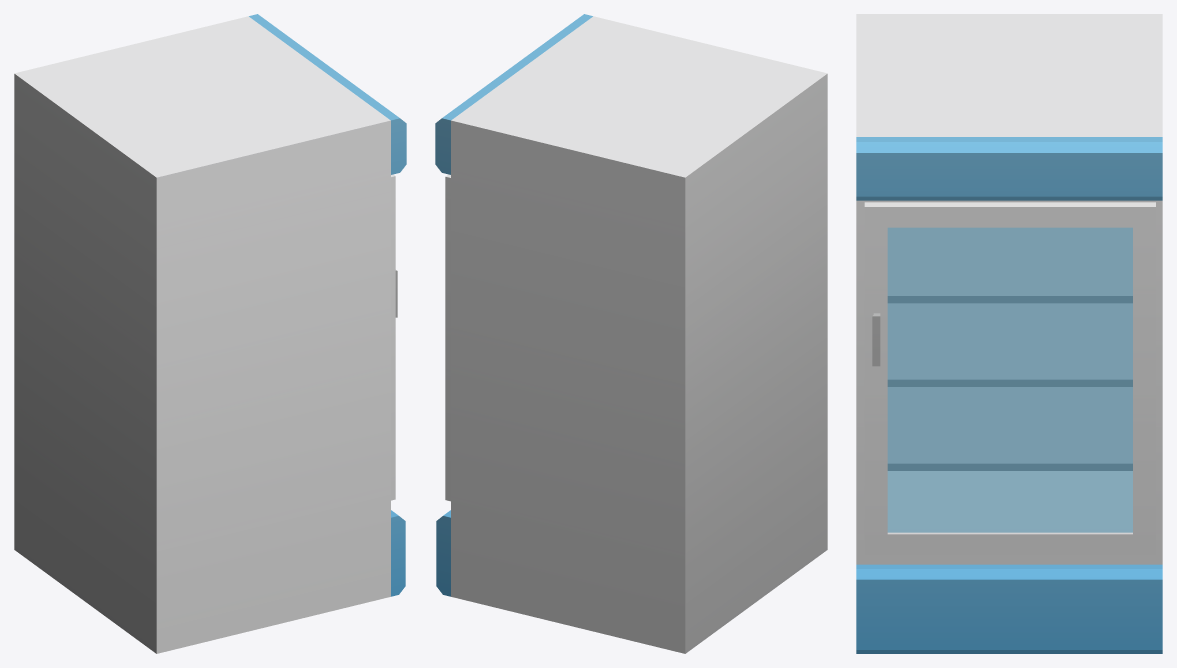
Rendered from fridge_single_white.fbx.
The picture shows the model from 3 angles, left to right: view 1: azimuth 30°, elevation 25°; view 2: azimuth 150°, elevation 25°; view 3: azimuth 270°, elevation 25°; orthographic projection. The views are drawn at different scales.
Visible parts, largest first — view 1: fridge_single_white, fridge_door_single_white; view 2: fridge_single_white, fridge_door_single_white; view 3: fridge_single_white, fridge_door_single_white.
Boxes of the visible parts, <box> form: fridge_single_white: <box>14,14,406,653</box>; fridge_door_single_white: <box>391,174,397,500</box>; fridge_single_white: <box>435,14,827,653</box>; fridge_door_single_white: <box>445,174,450,501</box>; fridge_single_white: <box>856,14,1162,653</box>; fridge_door_single_white: <box>864,202,1155,554</box>.
Bounding box in the file's own units: 680 × 1238 × 671.
